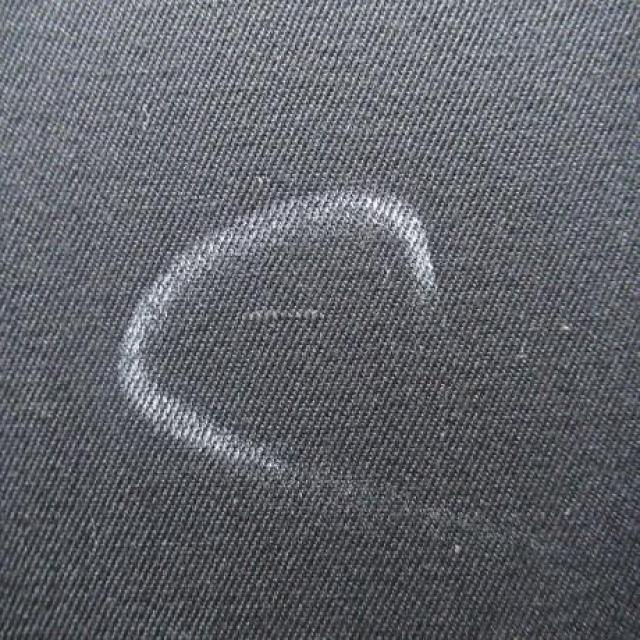stains: (218, 285, 366, 361)
